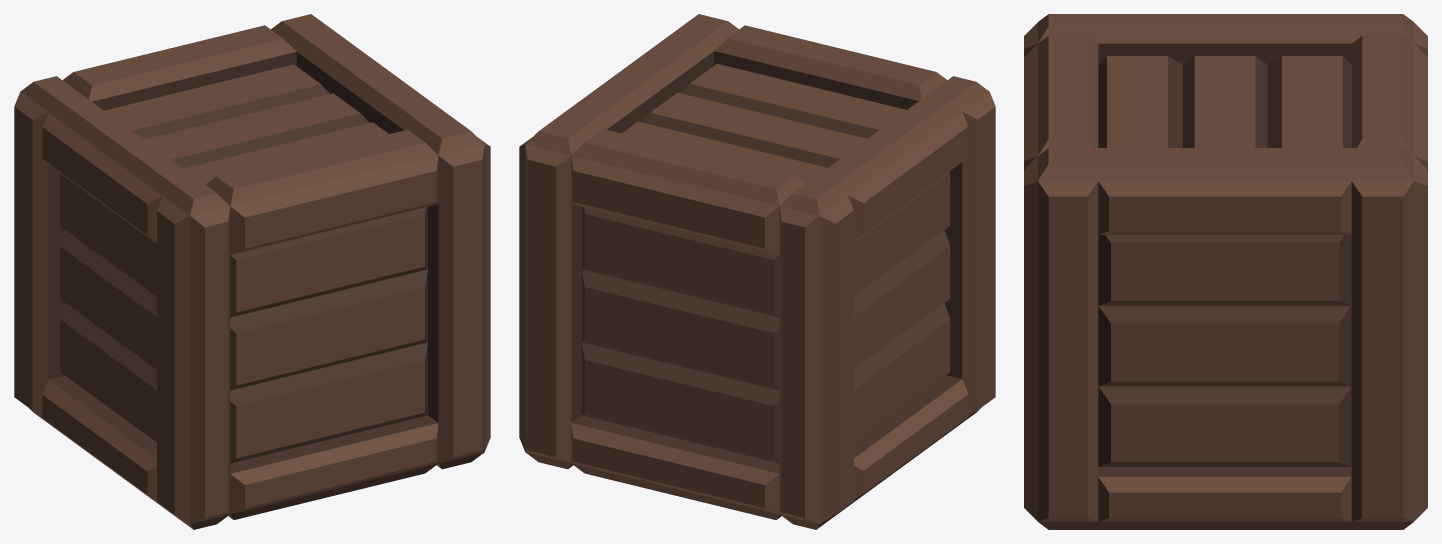
Rendered from Crate_003.glb.
3 views of the same model, side by side, from view 1: azimuth 30°, elevation 25°; view 2: azimuth 150°, elevation 25°; view 3: azimuth 270°, elevation 25° (orthographic). The views are drawn at different scales.
Parts seen in each view (by area): view 1: Crate_Detailed; view 2: Crate_Detailed; view 3: Crate_Detailed.
Boxes of the visible parts, bbox=[...] form: Crate_Detailed: bbox=[14, 14, 490, 529]; Crate_Detailed: bbox=[519, 14, 995, 529]; Crate_Detailed: bbox=[1024, 14, 1427, 529].
Bounding box in the file's own units: 2.15 × 2.15 × 2.15.
